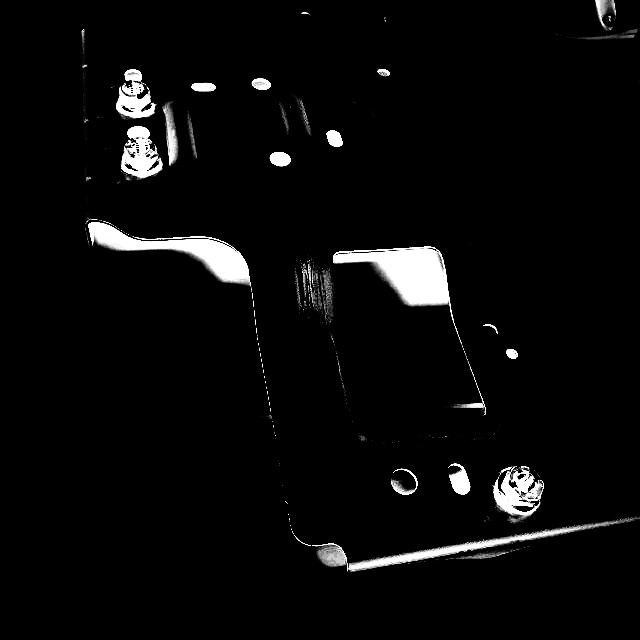dog: (490, 462, 545, 517), (118, 135, 164, 179), (114, 78, 158, 121)
